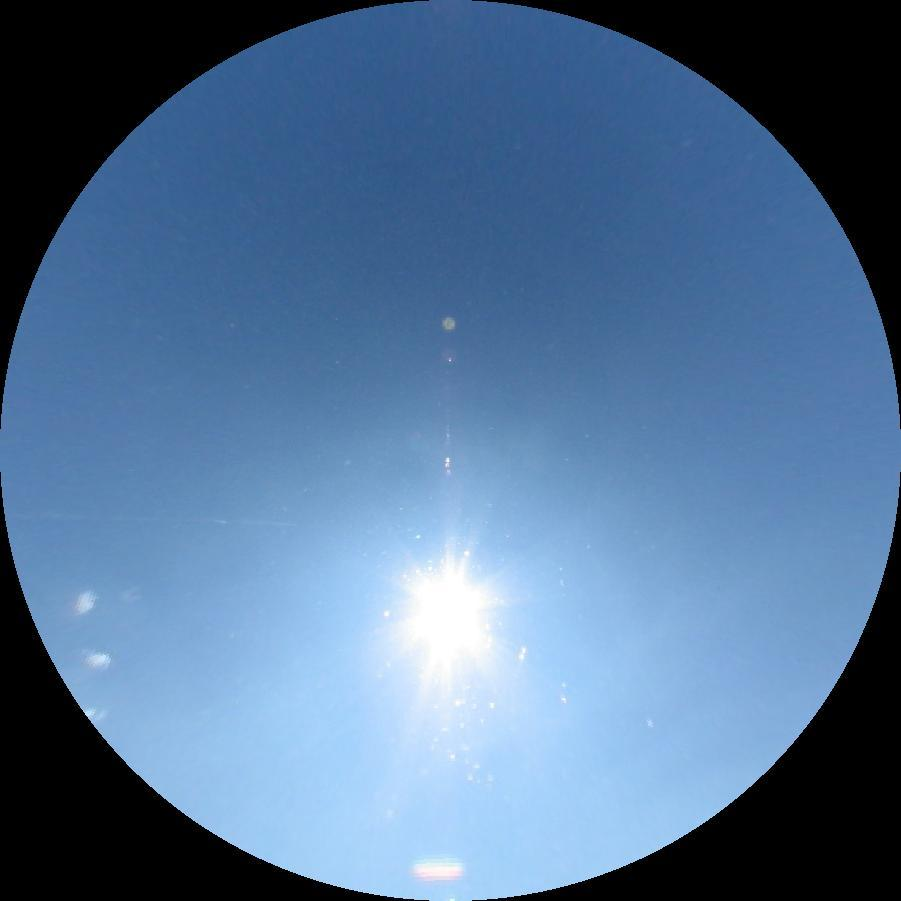sun: (386, 551, 508, 678)
